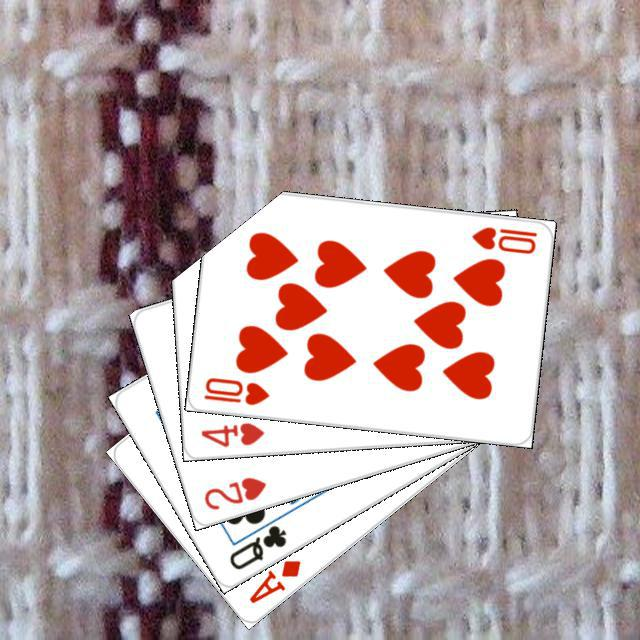10h: (198, 372, 271, 407), (466, 221, 539, 256)
2h: (199, 472, 268, 512)
4h: (196, 417, 266, 449)
Ad: (243, 554, 303, 606)
Qc: (224, 509, 289, 572)
